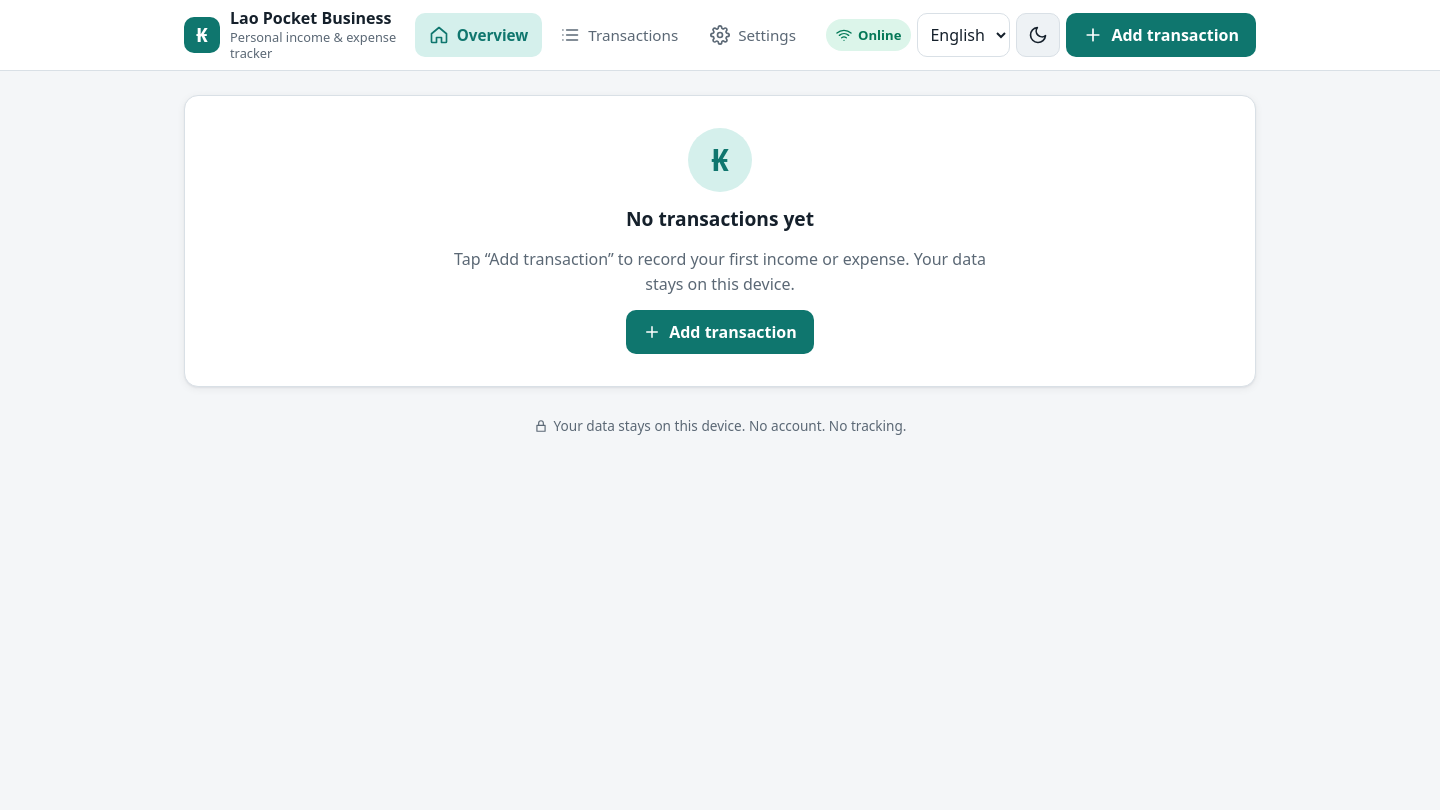
Scenario: Settings: offline use & install › offers an Install button when the browser allows it
Click the button "Settings" at (753, 35), box x1=696 y1=13 x2=810 y2=57
(page scrolled)
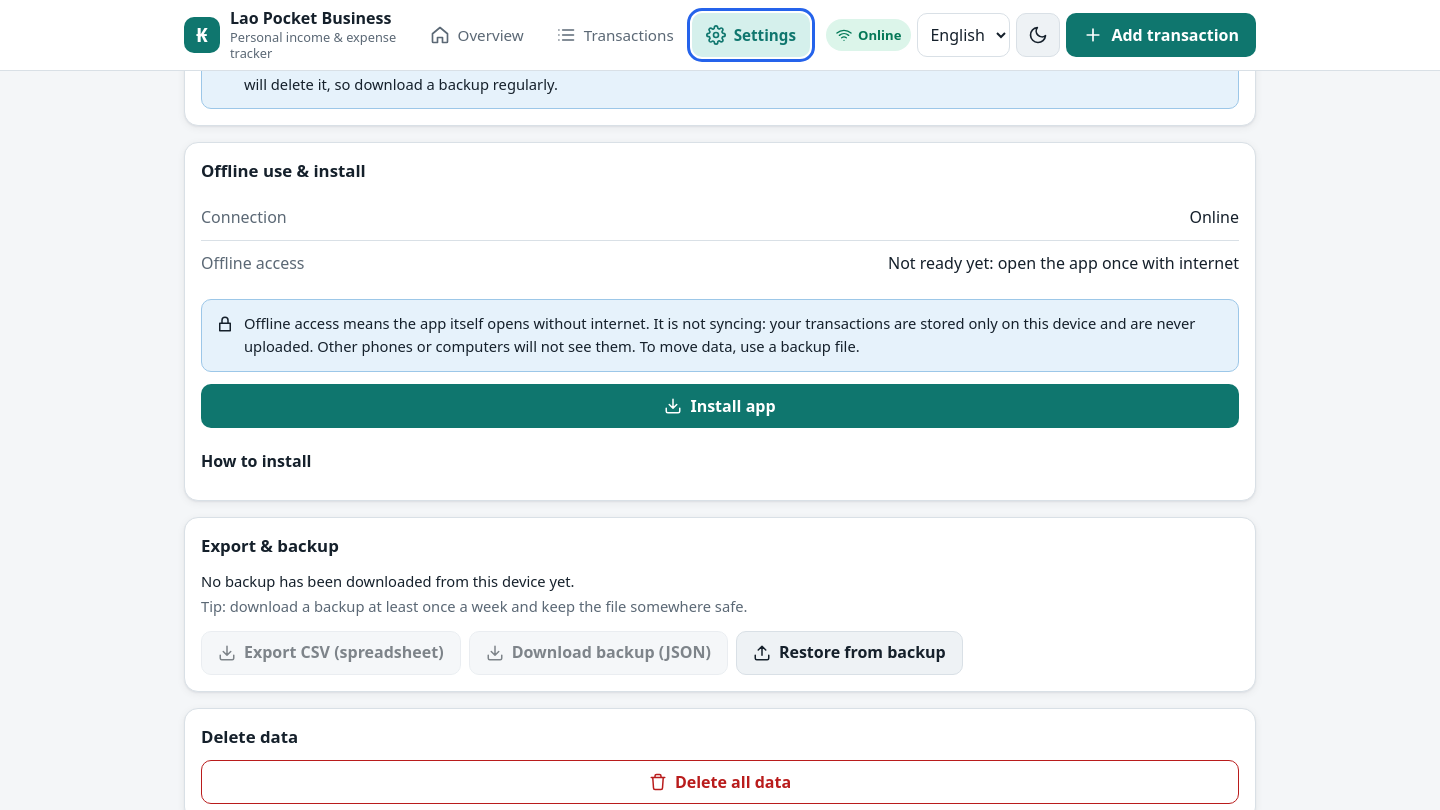
Click the button "Install app" at (720, 406), box x1=201 y1=384 x2=1239 y2=428
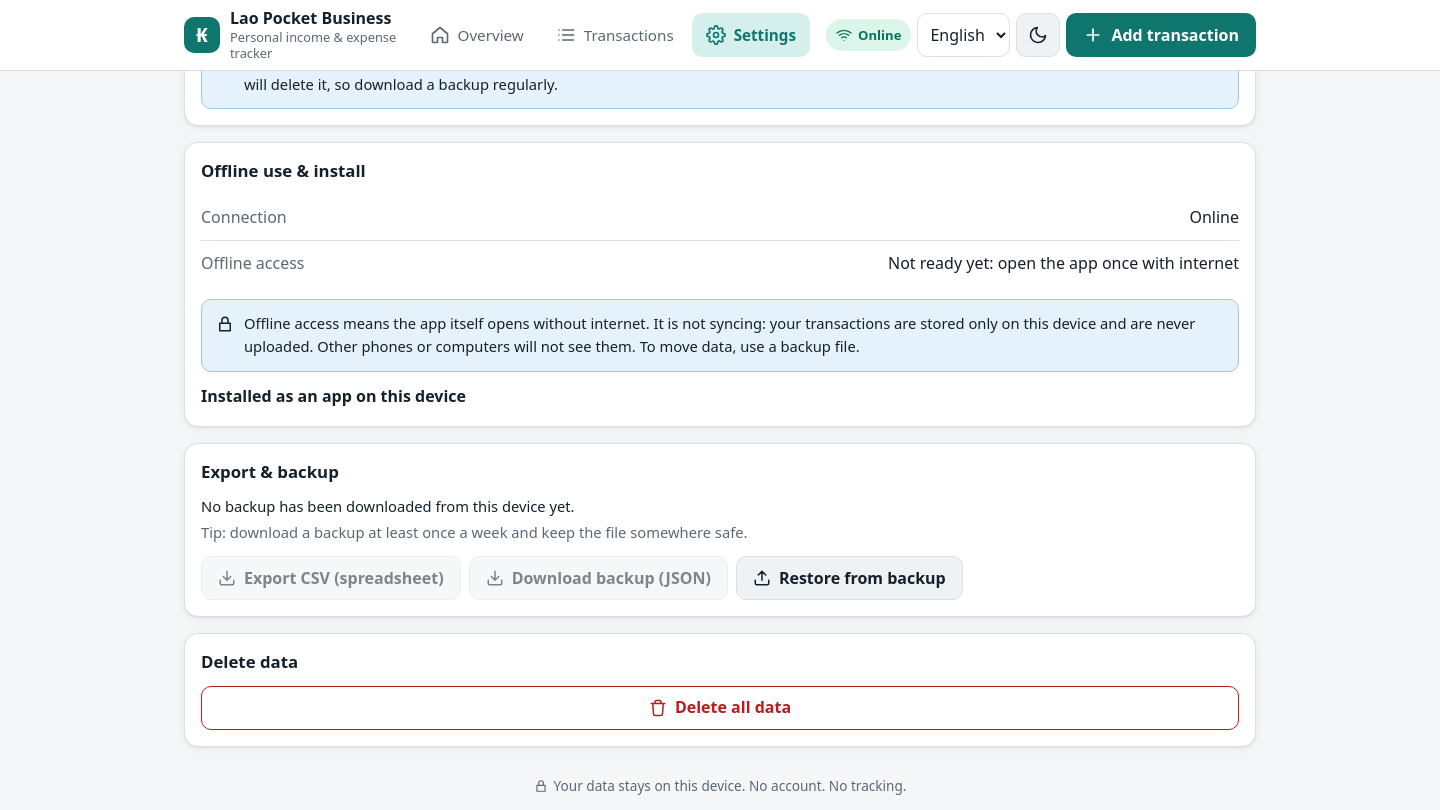
Expected: the element "Offline use & install" shows "Installed as an app on this device", x1=201 y1=385 x2=466 y2=407
